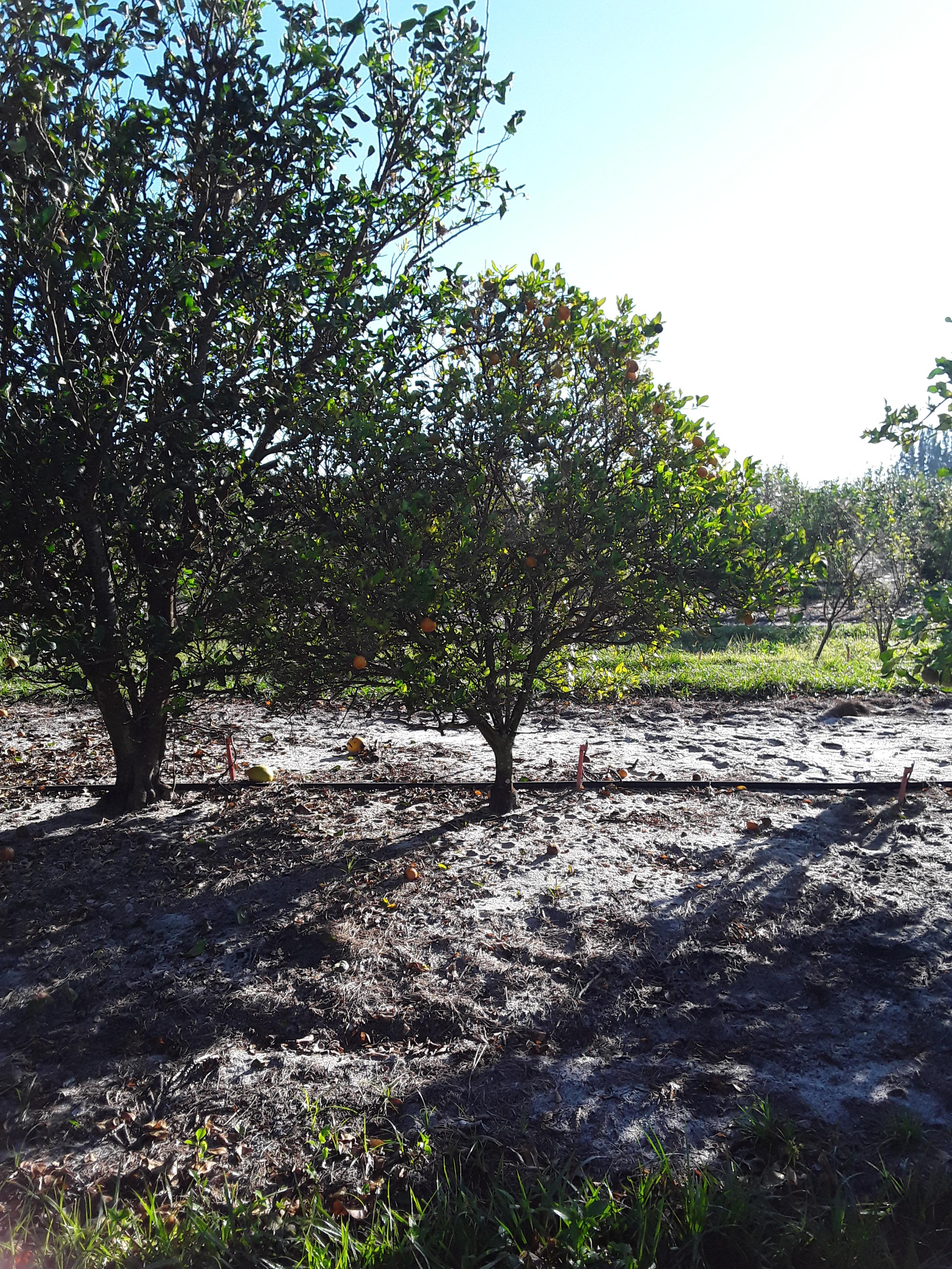fruit_on_ground: (418, 614, 437, 636), (555, 304, 575, 323), (352, 651, 370, 672), (650, 400, 673, 416), (520, 425, 539, 441), (625, 440, 641, 459), (506, 350, 522, 369), (625, 358, 643, 374), (742, 608, 758, 625), (523, 556, 540, 571), (541, 314, 559, 328), (453, 342, 471, 356), (706, 452, 722, 467), (695, 463, 710, 477), (653, 320, 666, 336), (428, 432, 442, 446), (691, 434, 706, 447), (550, 364, 565, 377), (486, 352, 500, 365), (525, 296, 539, 308), (493, 437, 508, 448), (867, 558, 868, 559)
fruit_on_tree: (245, 761, 276, 788), (345, 735, 364, 756), (545, 839, 564, 859), (403, 863, 422, 883), (744, 816, 761, 835), (0, 844, 16, 863), (689, 768, 704, 783), (483, 787, 497, 801), (471, 787, 484, 801), (618, 765, 629, 780)
